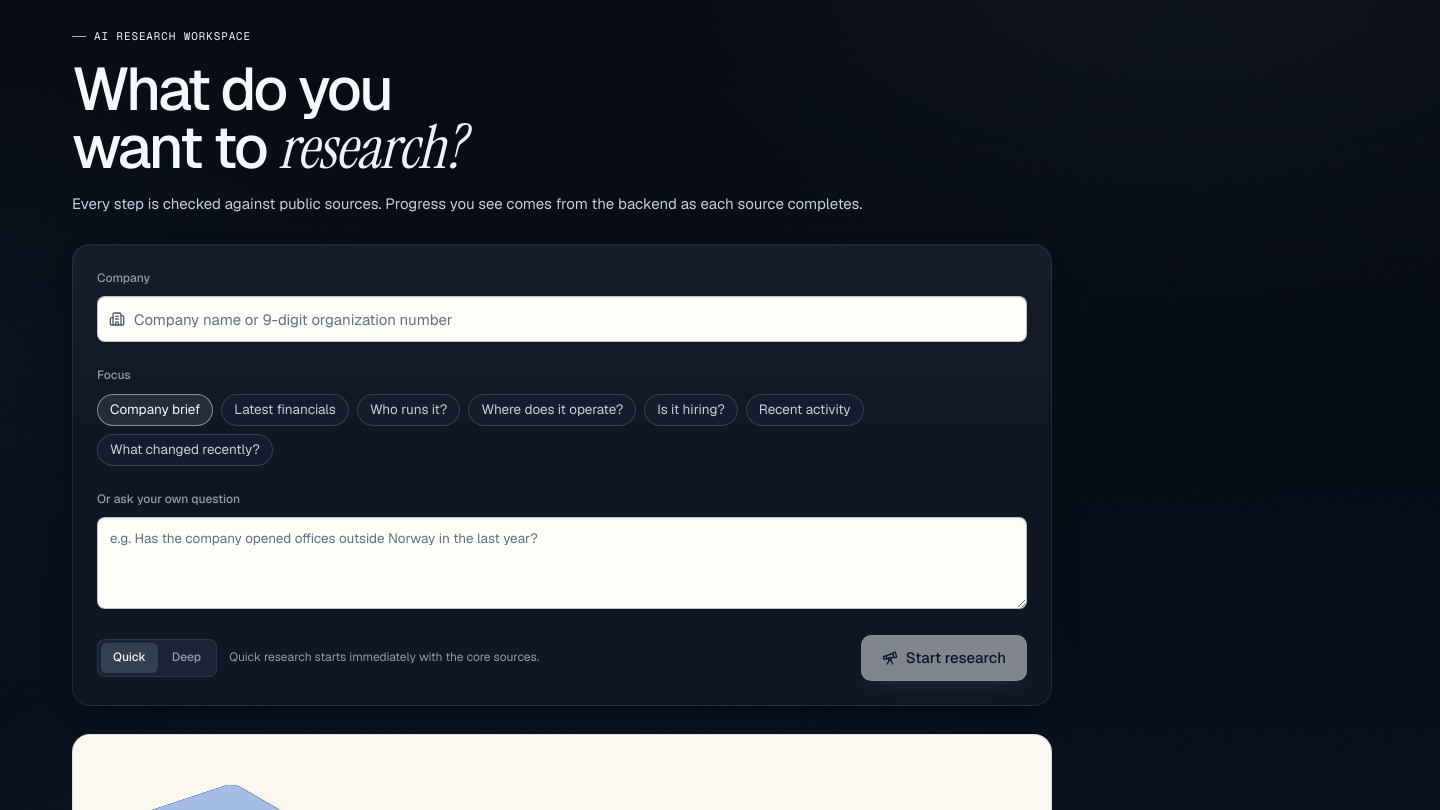
it: the depth control reaches the API › the hint under the control follows the choice
This screenshot has width=1440, height=810.
Click the button "Deep" at {"x": 186, "y": 658}, box [160, 643, 213, 673]
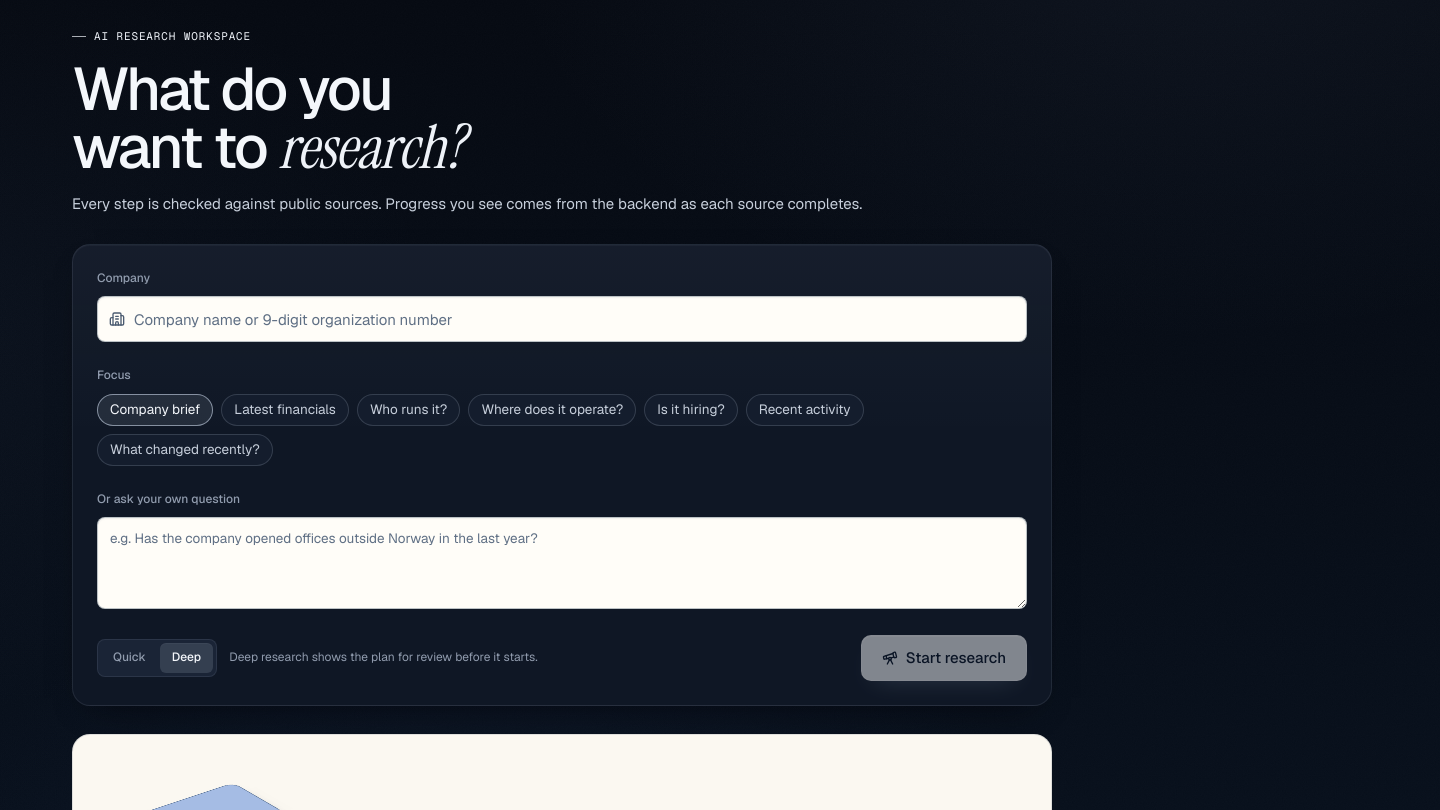
Expected: the text "Deep research shows the plan for review before it starts." is shown, [229, 648, 538, 667]
Click the button "Quick" at {"x": 129, "y": 658}, box [101, 643, 158, 673]
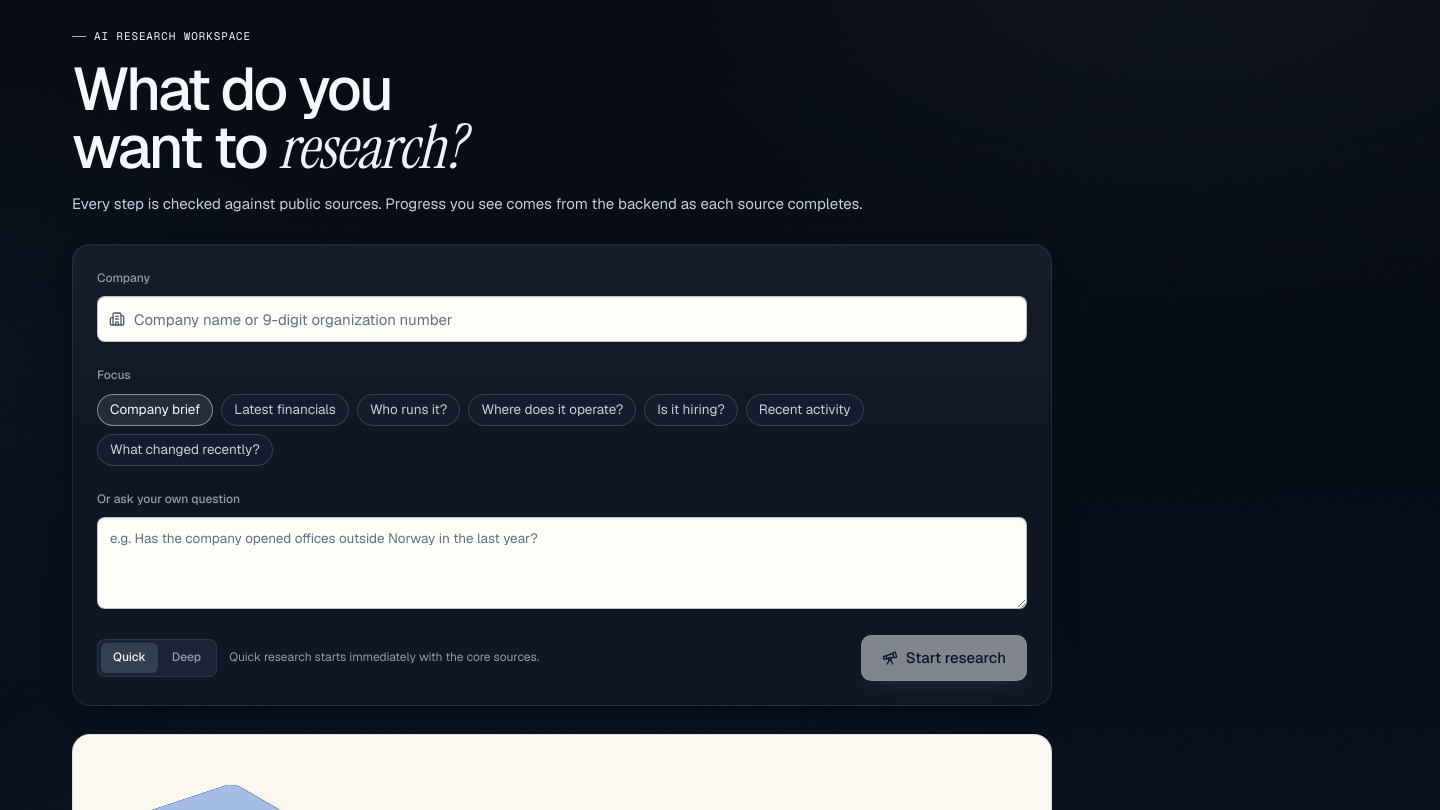
Expected: the text "Quick research starts immediately with the core sources." is shown, [229, 648, 539, 667]
